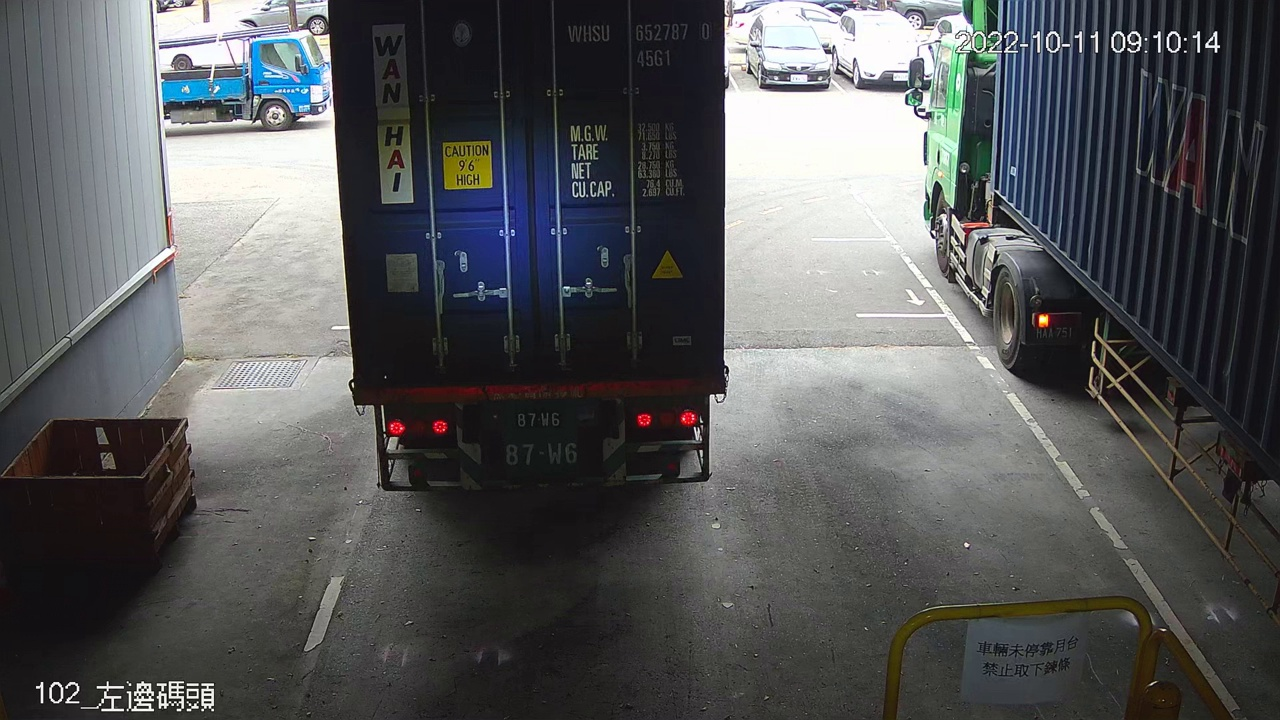container: (560, 13, 716, 75)
